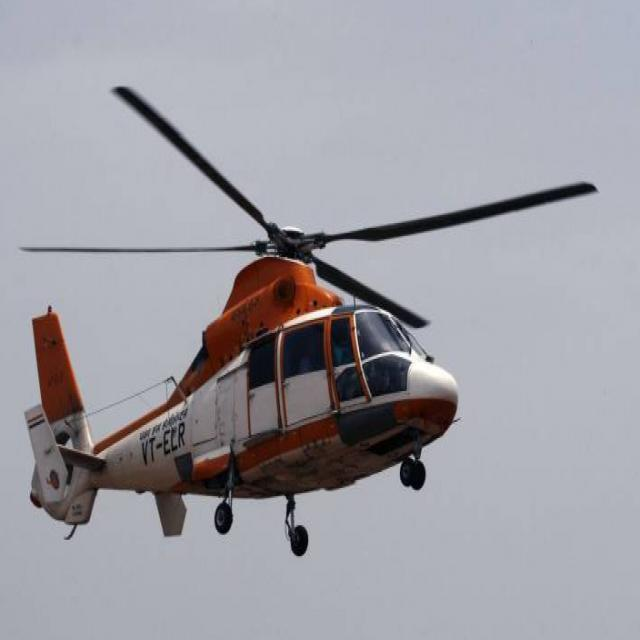helicopter: (7, 74, 600, 575)
